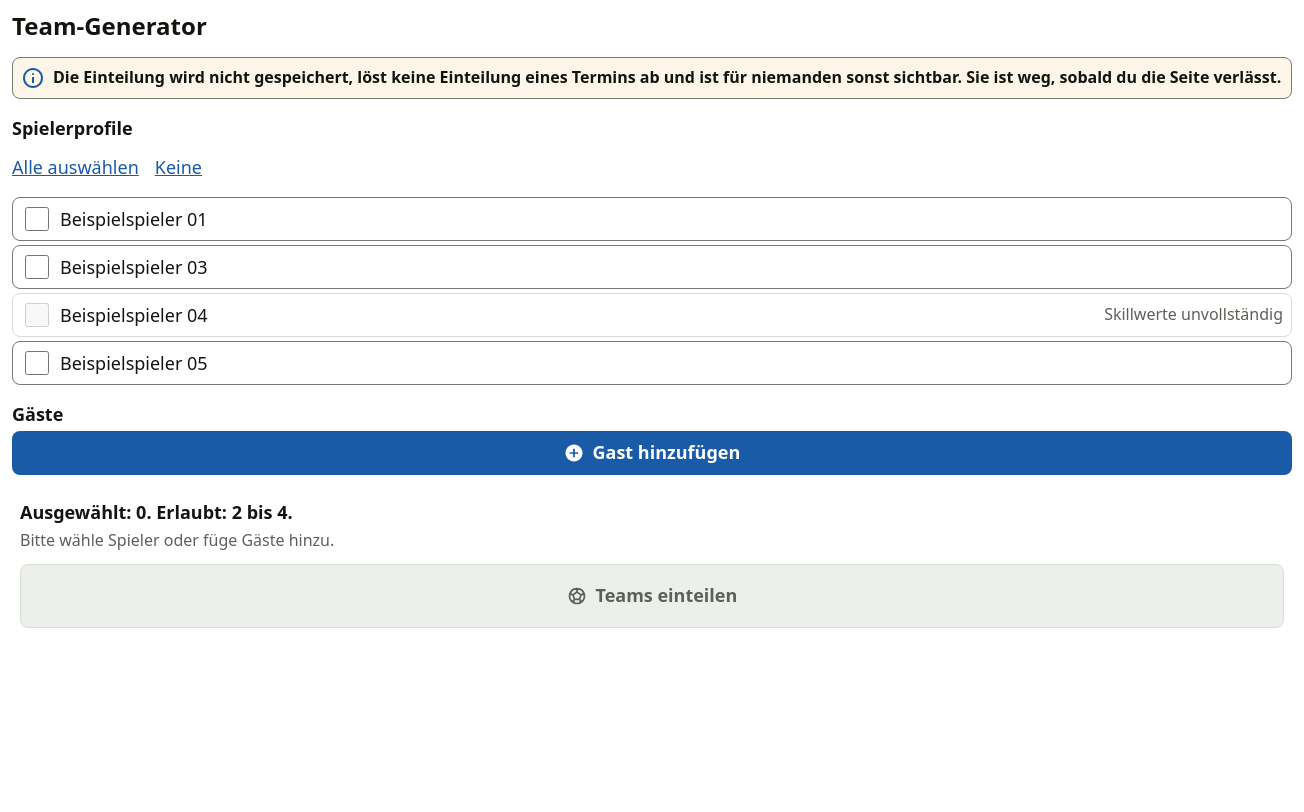
Test: AdminTeams – Auswahl › innerhalb der Grenzen ist „Teams einteilen“ frei und der Grund weg
The width and height of the screenshot is (1304, 812).
Expected: the text with test id "admin-teams-zaehler" shows "Erlaubt:", [152,500,293,524]
Click the checkbox with test id "admin-teams-profil-1" at (37, 219), box [25,207,49,231]
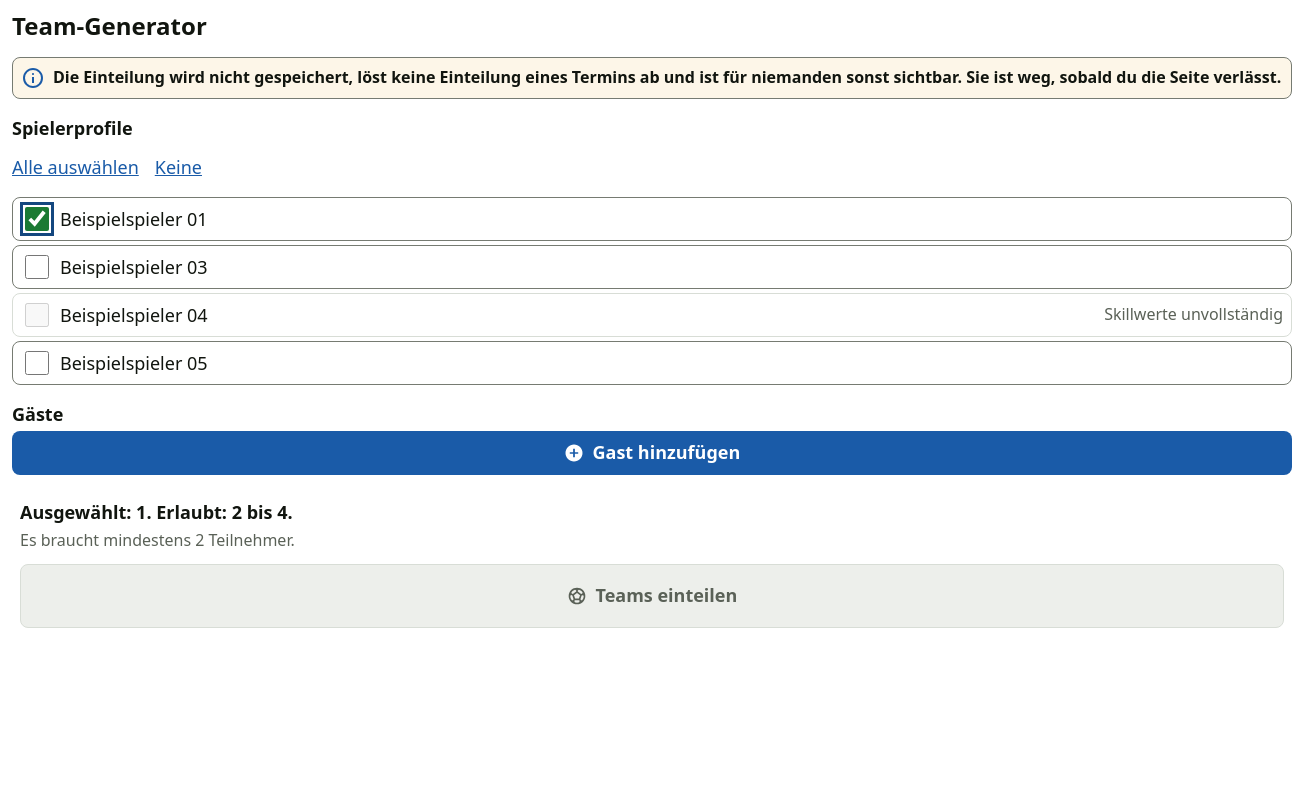
Click the checkbox with test id "admin-teams-profil-3" at (37, 267), box [25,255,49,279]
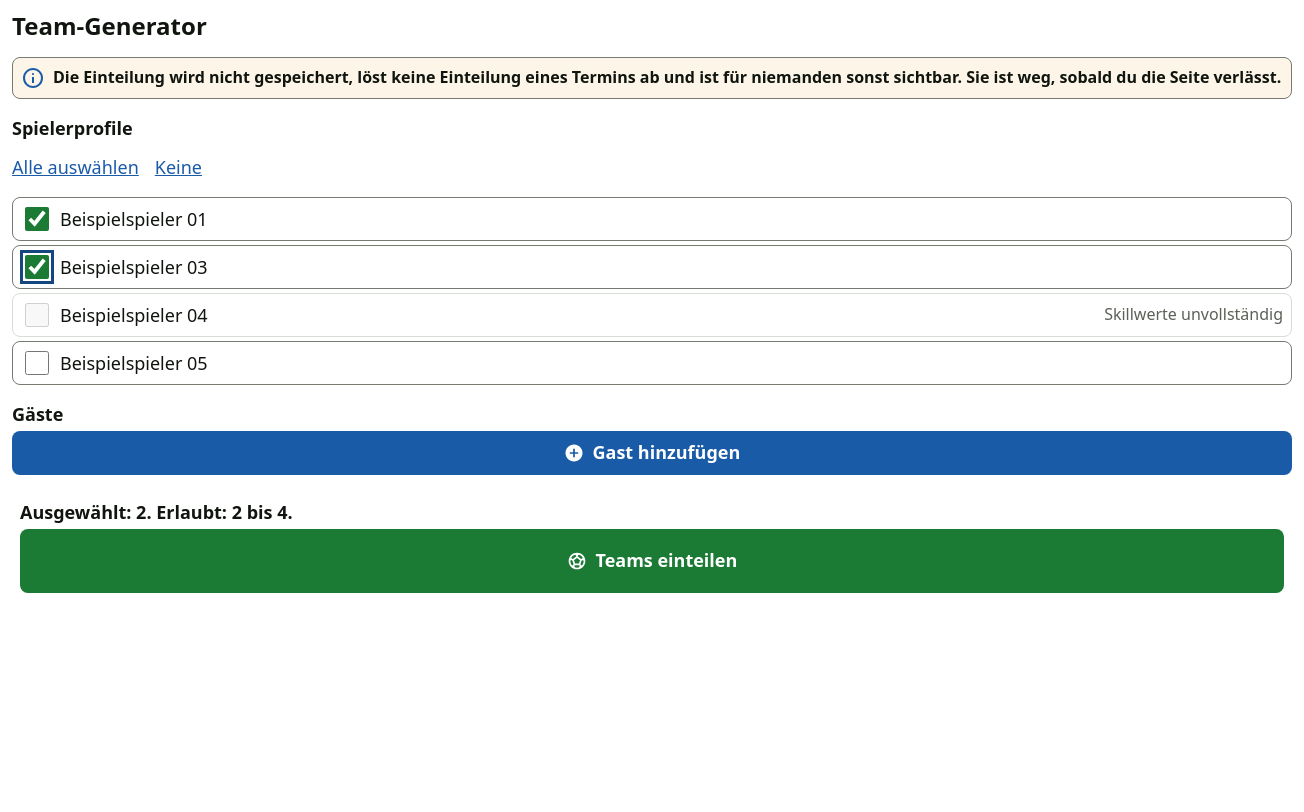
Expected: the button with test id "admin-teams-berechnen" reads "Teams einteilen", [20,529,1284,593]
Expected: the text with test id "admin-teams-grund" is gone
